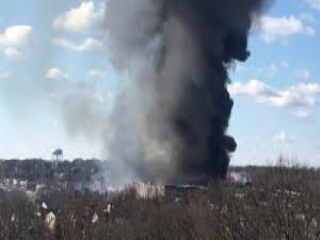smoke: (95, 2, 258, 195)
